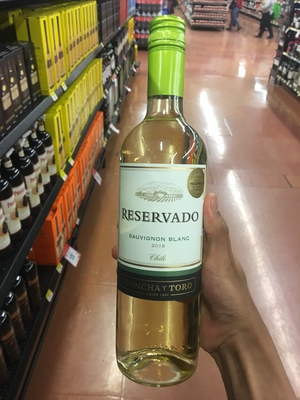reservado sauvignon blanc: (114, 24, 208, 375)
